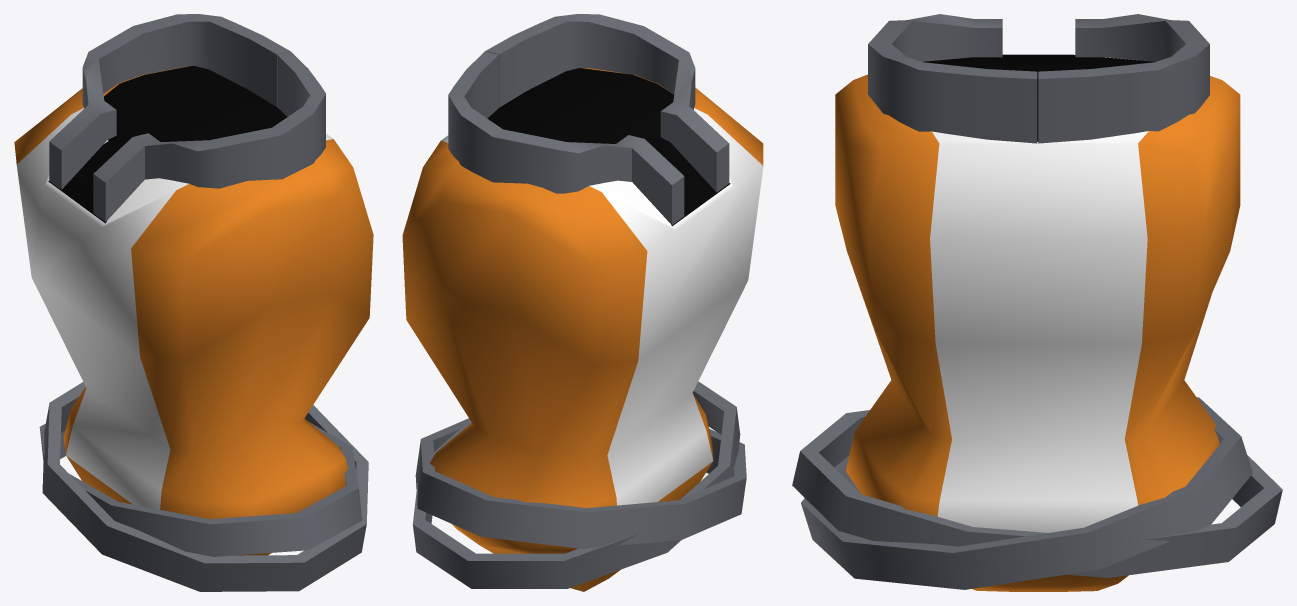
File: Char_DK_Body.FBX
3 renders of one model, left to right at view 1: azimuth 30°, elevation 25°; view 2: azimuth 150°, elevation 25°; view 3: azimuth 270°, elevation 25°, orthographic. The views are drawn at different scales.
Parts seen in each view (by area): view 1: Box003; view 2: Box003; view 3: Box003.
Boxes of the visible parts, left/top/right/bottom form: Box003: left=14, top=14, right=373, bottom=591; Box003: left=402, top=14, right=763, bottom=591; Box003: left=792, top=14, right=1282, bottom=591.
Bounding box in the file's own units: 50.63 × 88.74 × 71.78.
